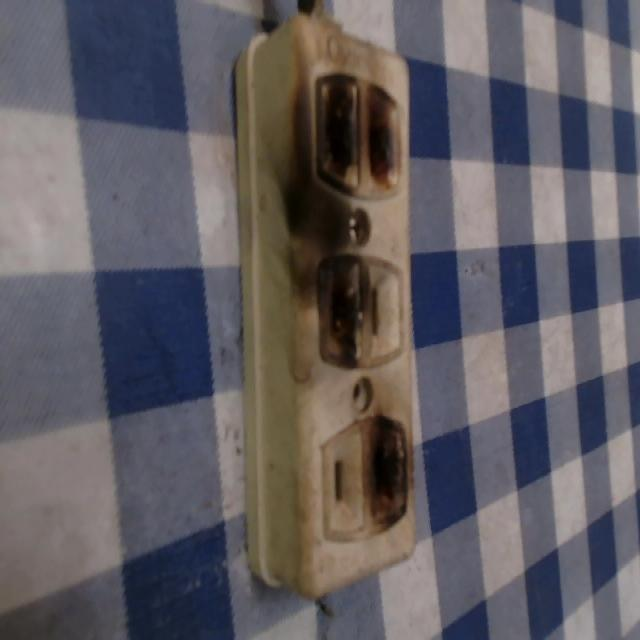-: (306, 65, 418, 208), (304, 247, 371, 373), (365, 411, 417, 533)
